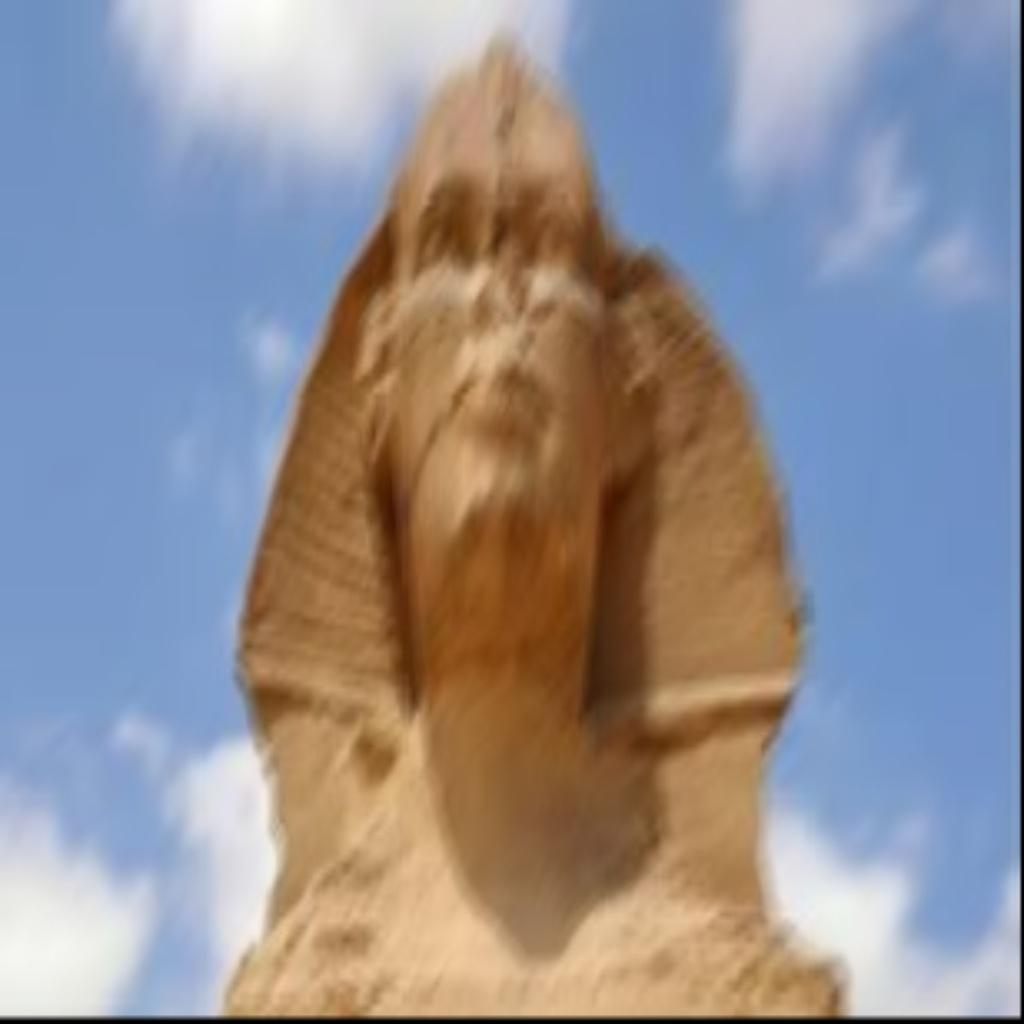Sphinx: (220, 32, 848, 1012)
